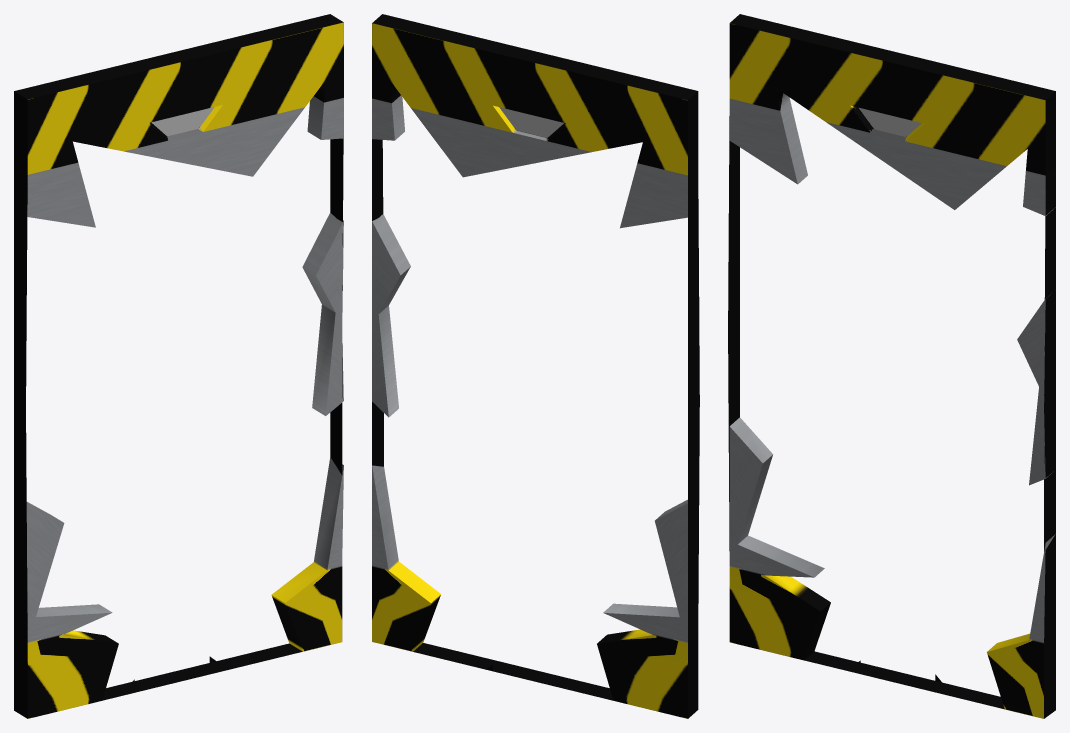
File: BrokenDoor.fbx
3 renders of one model, left to right at view 1: azimuth 30°, elevation 25°; view 2: azimuth 150°, elevation 25°; view 3: azimuth 330°, elevation 25°, orthographic.
Parts seen in each view (by area): view 1: Cube; view 2: Cube; view 3: Cube.
Part boxes in pixels (bbox=[...]): Cube: bbox=[14, 14, 343, 718]; Cube: bbox=[372, 14, 699, 718]; Cube: bbox=[728, 14, 1055, 718].
Size of the model in its own units: 312 by 582 by 24.81.
